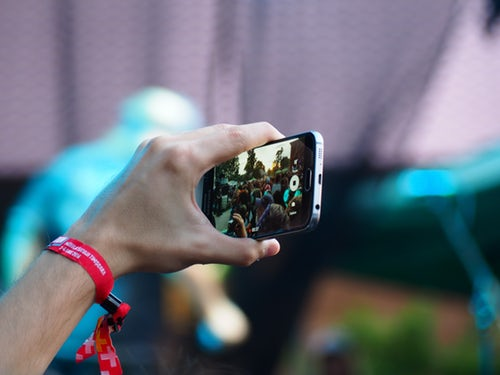phone: (197, 130, 328, 239)
